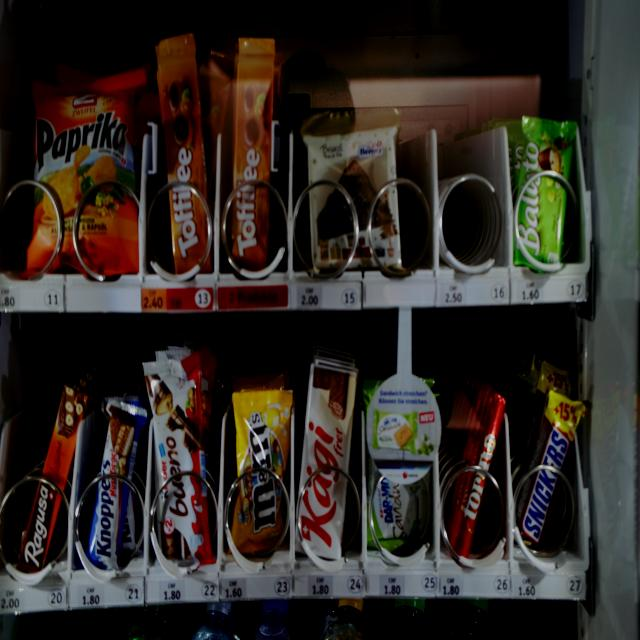balisto_muesli__37g__5000159418546: (511, 108, 578, 276)
berger_brunsli___: (299, 104, 412, 275)
bueno___43__4008400320328: (139, 351, 218, 574)
darwida_sandwich____7610032065170: (359, 372, 444, 567)
kagi___50__7610046000259: (297, 352, 355, 568)
knoppers_riegel____4035800488808: (89, 394, 147, 574)
mnms_gelb__45__40111445: (221, 383, 298, 561)
ragusa___50__76401121: (14, 375, 91, 577)
snickers___50__5000159461122: (515, 381, 584, 561)
toffifee___33__4014400924275: (154, 27, 216, 277), (225, 29, 280, 270)
torino___46__76415272: (448, 383, 512, 565)
zweifel_paprika__90__7610095013002: (21, 78, 140, 284)
